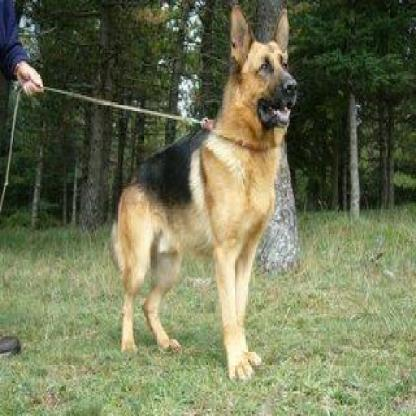dog: (110, 14, 298, 383)
